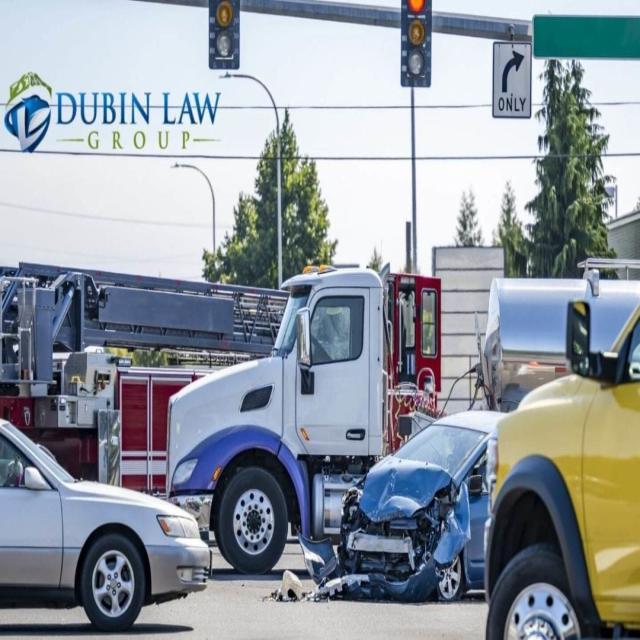Accident: (280, 408, 507, 605)
